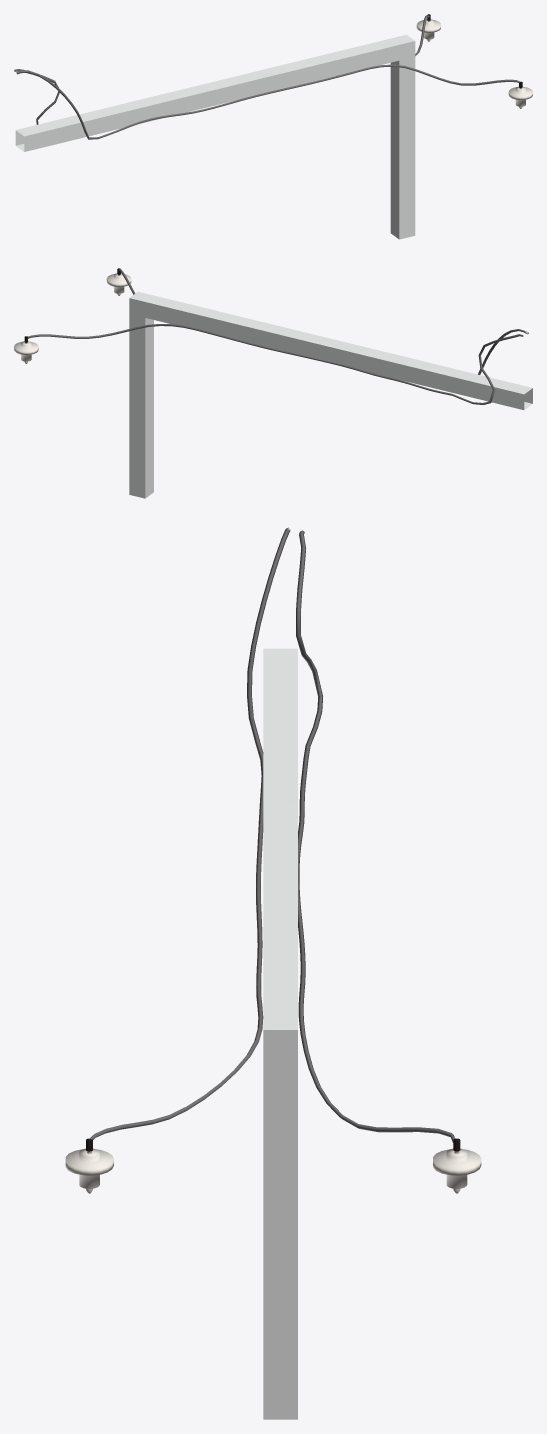
File: wirebrace.fbx
3 views of the same model, one above another, from view 1: azimuth 30°, elevation 25°; view 2: azimuth 150°, elevation 25°; view 3: azimuth 270°, elevation 25° (orthographic). The views are drawn at different scales.
Parts seen in each view (by area): view 1: WireBrace1; view 2: WireBrace1; view 3: WireBrace1.
Part boxes in pixels (left/top/right/bottom): WireBrace1: left=14, top=14, right=532, bottom=239; WireBrace1: left=14, top=268, right=532, bottom=498; WireBrace1: left=65, top=527, right=481, bottom=1419.
Bounding box in the file's own units: 3.09 × 1.62 × 1.2.
